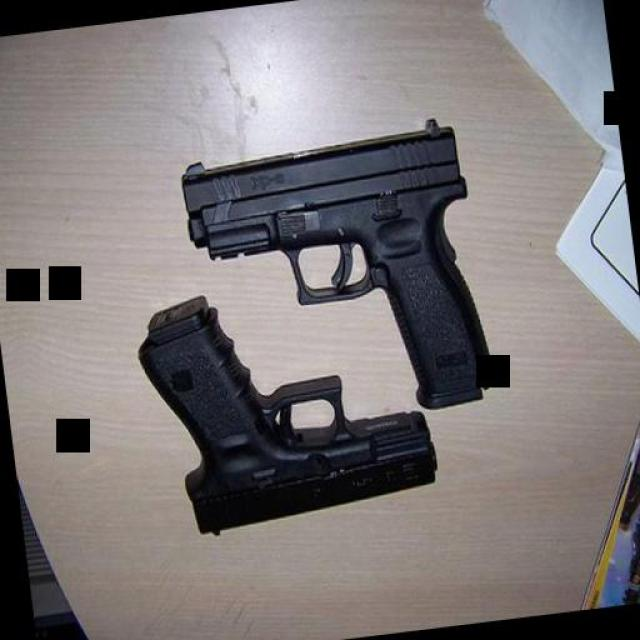gun: (174, 116, 501, 438), (128, 265, 442, 539)
